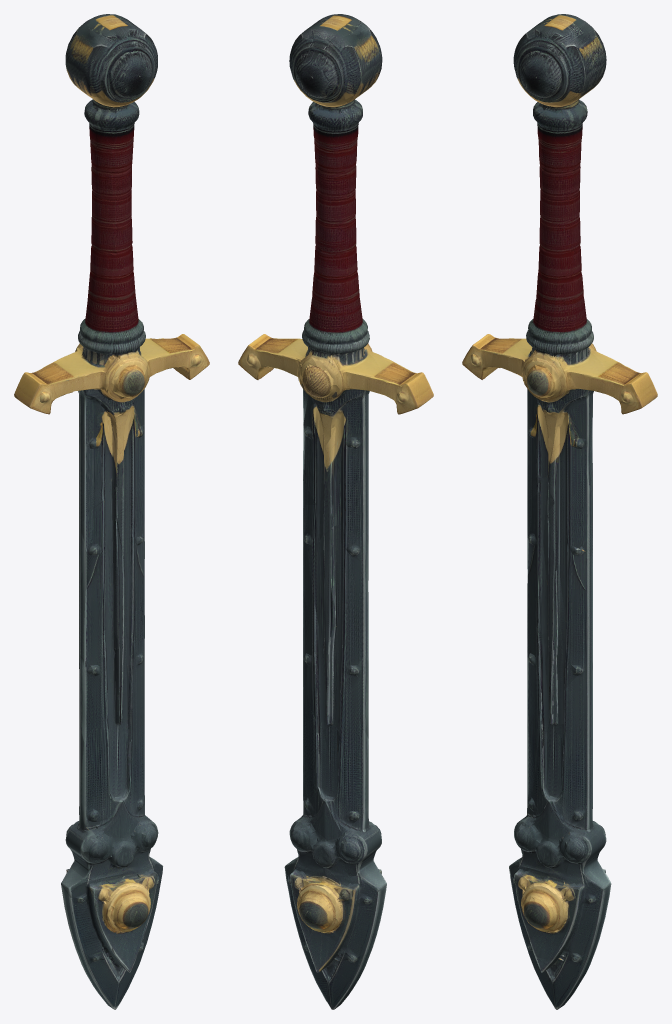
Rendered from sword_gearblade.glb.
3 views of the same model, side by side, from view 1: azimuth 30°, elevation 25°; view 2: azimuth 150°, elevation 25°; view 3: azimuth 330°, elevation 25° (orthographic).
Bounding box in the file's own units: 0.3645 × 1.9 × 0.1896.
1 material, 1 textured.
